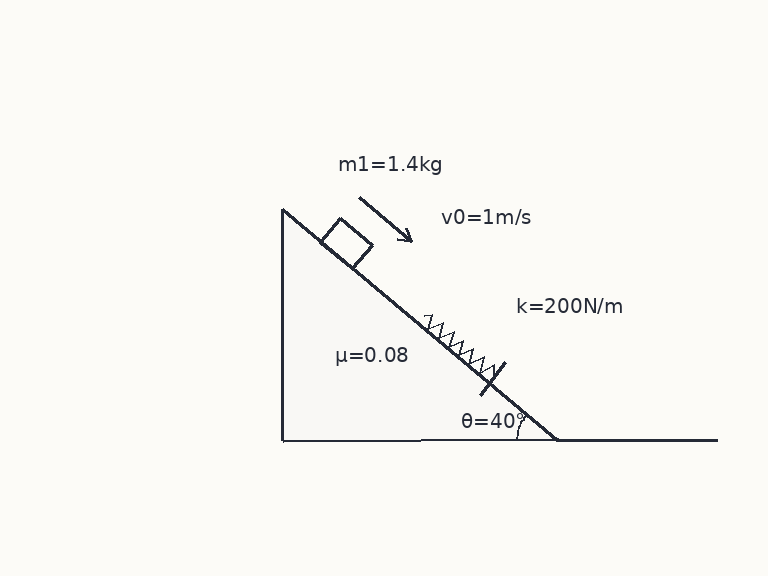block: (318, 216, 374, 270)
ramp: (281, 208, 559, 442)
spring: (421, 313, 496, 378)
